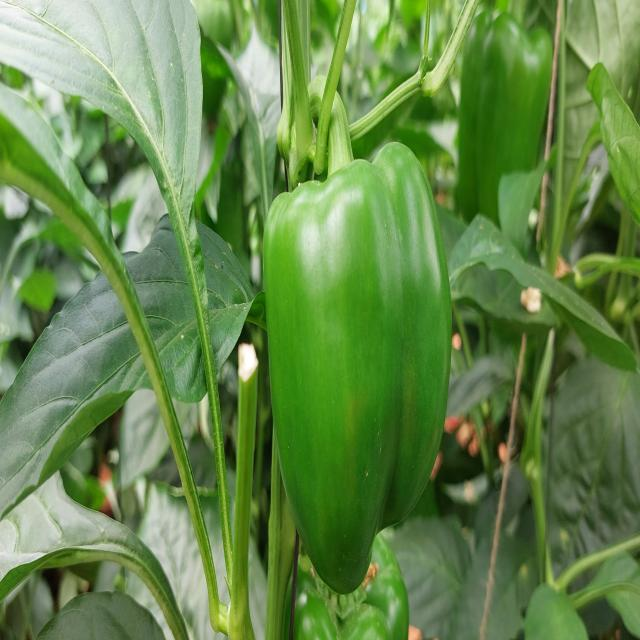Green--Not-ready-to-harvest: (265, 168, 450, 594), (458, 14, 557, 246)
